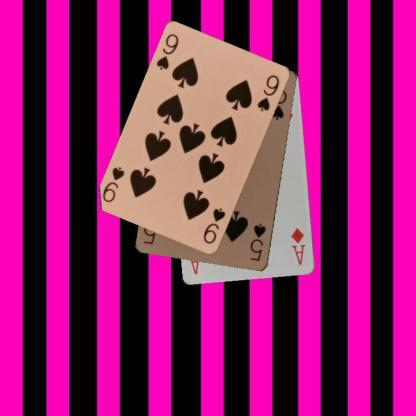5s: (247, 222, 268, 262)
9s: (200, 205, 228, 246), (154, 31, 180, 72)
Ad: (288, 225, 308, 267)
